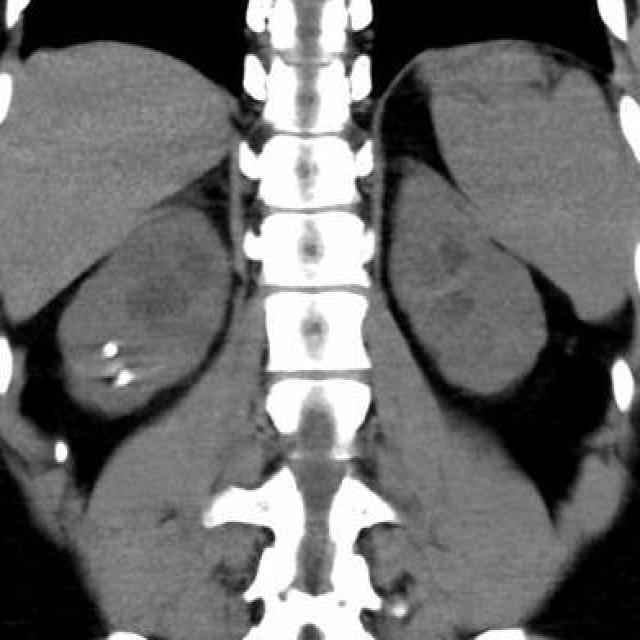Tas_Var: (97, 339, 122, 363), (114, 368, 136, 390)
